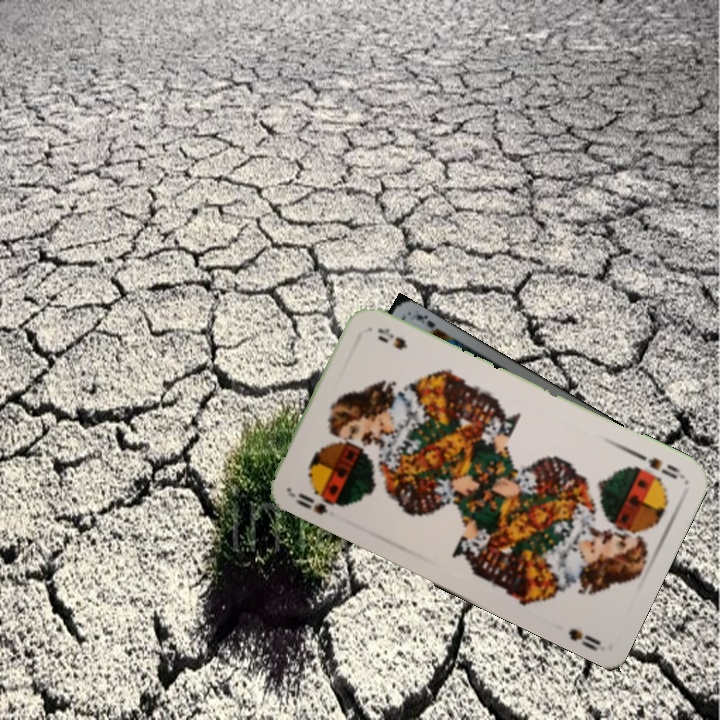SO: (630, 447, 686, 482), (288, 488, 347, 517)
